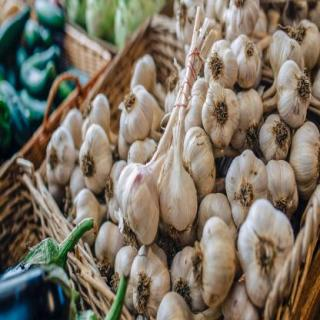Bawang Putih: (118, 162, 160, 245), (200, 217, 238, 308), (225, 149, 269, 227), (131, 246, 172, 313), (203, 83, 241, 151), (160, 166, 199, 232), (276, 60, 312, 127), (205, 39, 239, 96), (121, 86, 154, 143)
